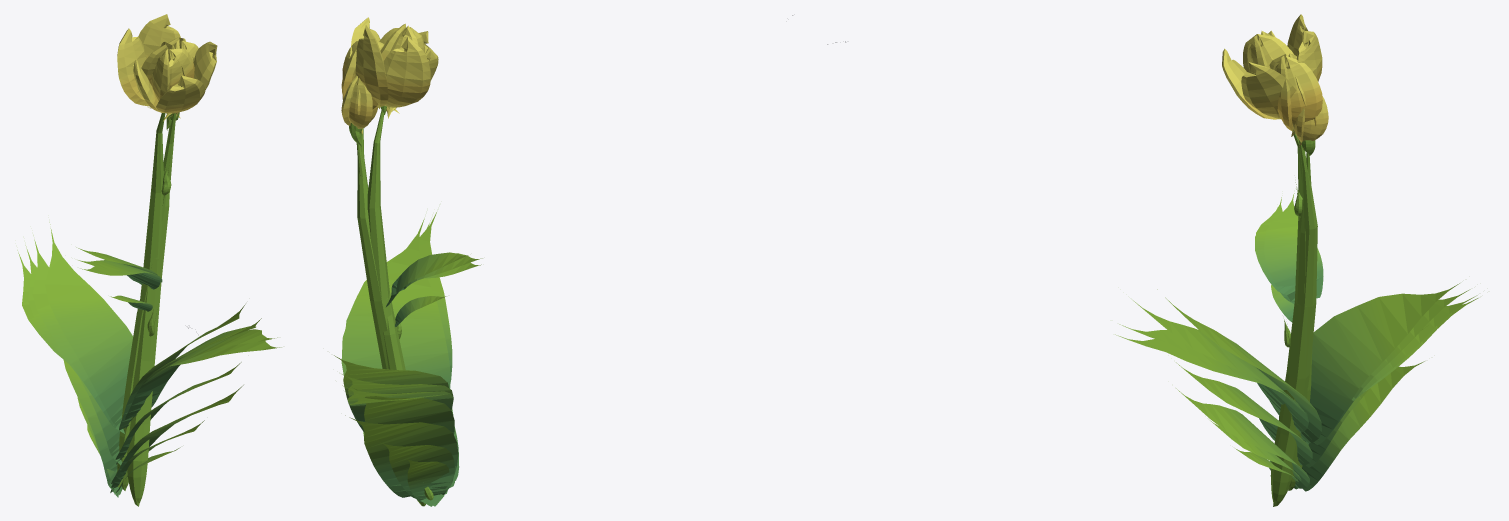
Rendered from bloomyellow.fbx.
3 views of the same model, side by side, from view 1: azimuth 30°, elevation 25°; view 2: azimuth 150°, elevation 25°; view 3: azimuth 270°, elevation 25° (orthographic). The views are drawn at different scales.
Parts seen in each view (by area): view 1: yellow; view 2: yellow; view 3: yellow.
Part boxes in pixels (x1,y1,x2,y2): yellow: [17, 14, 281, 506]; yellow: [334, 15, 792, 506]; yellow: [827, 14, 1478, 506].
Bounding box in the file's own units: 0.2501 × 0.4637 × 0.5651.
